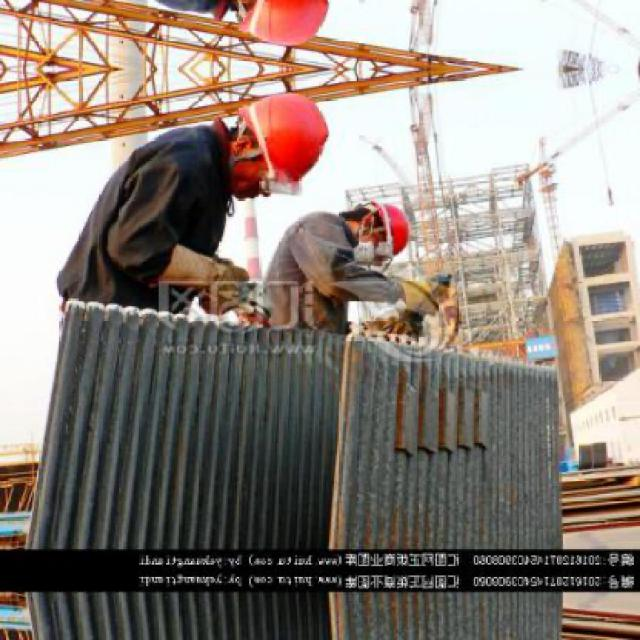helmet: (220, 88, 335, 195), (220, 0, 337, 49), (360, 198, 420, 257)
